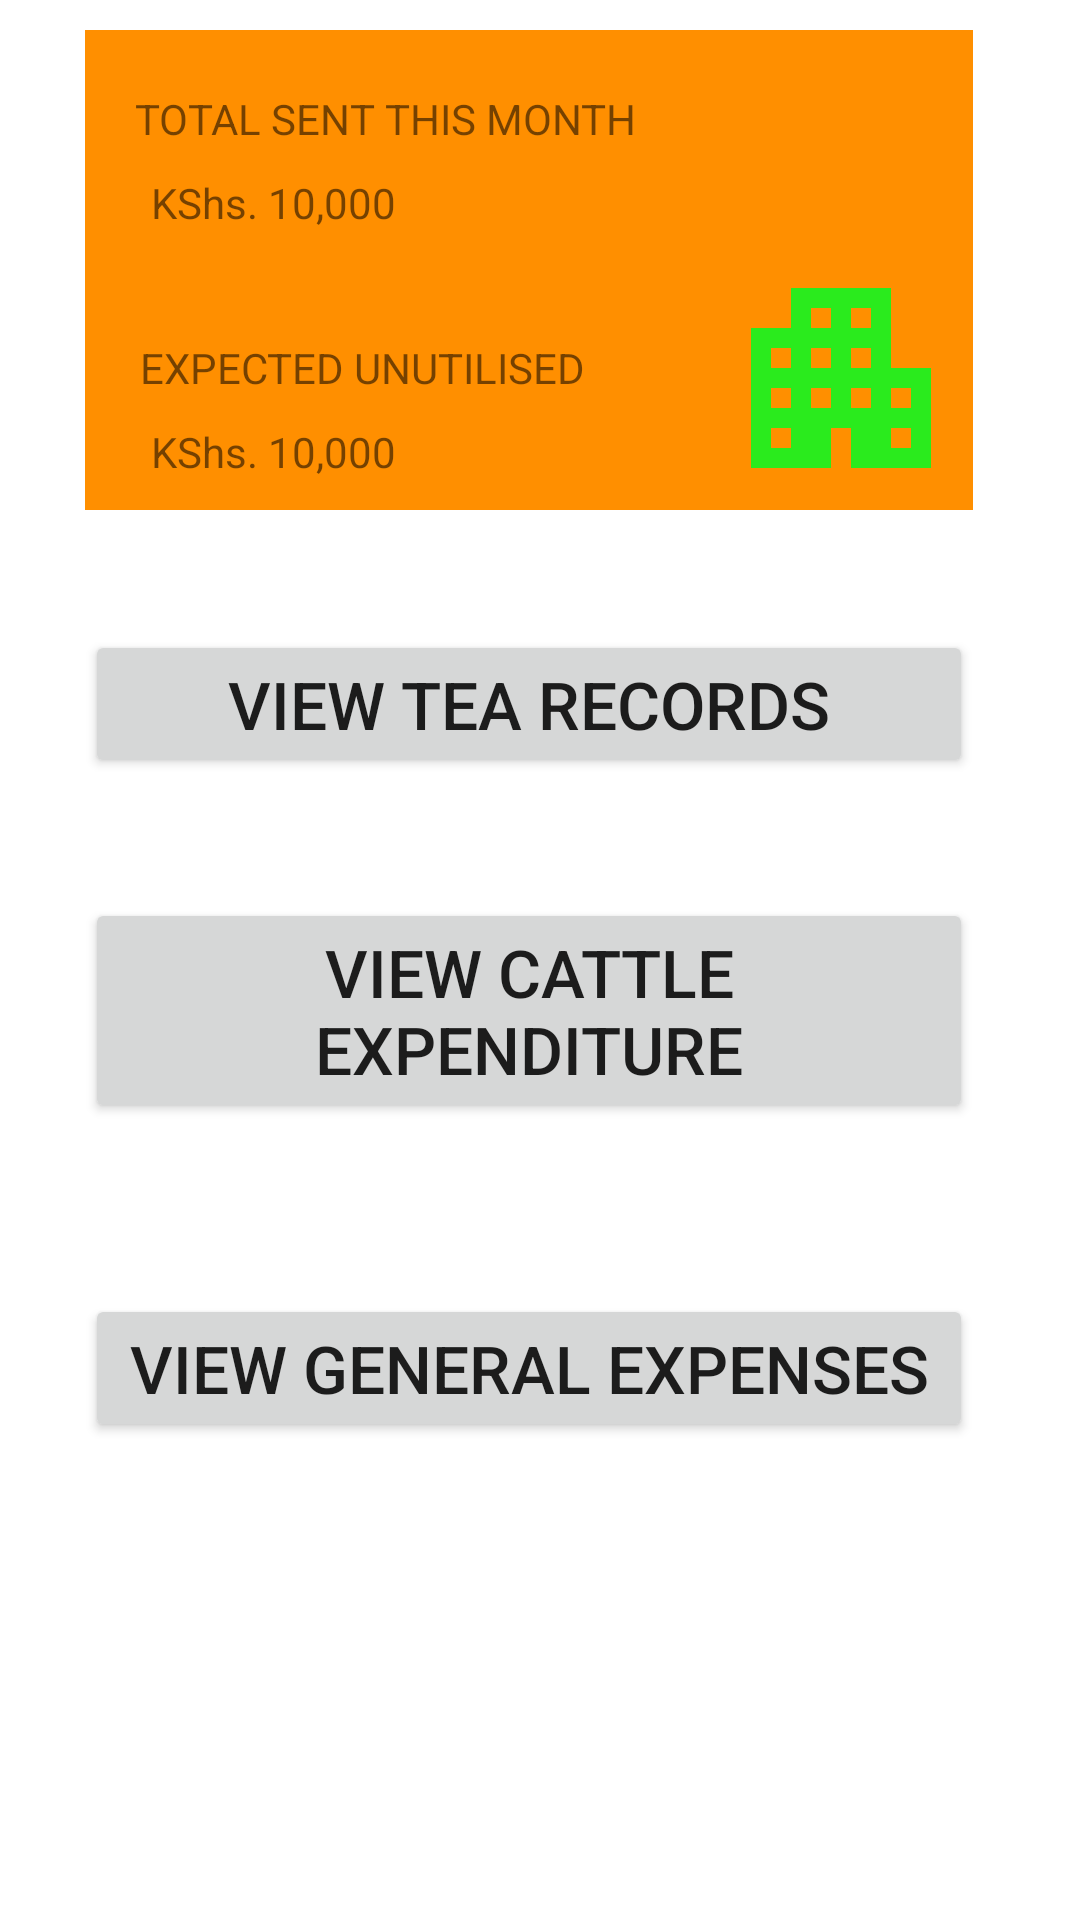

Icons on this 1080×1920 Android screen, each with the point to tap as (x,y):
apartment: (841,378)
